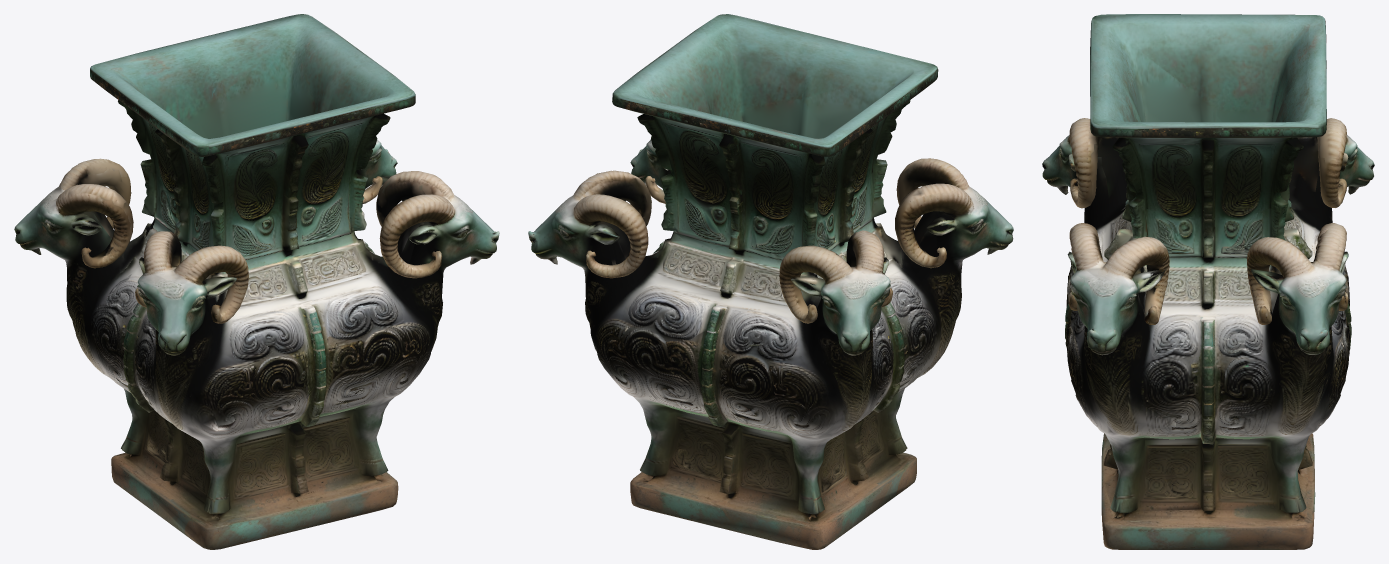
Rendered from si-yang-fang-zun.glb.
3 views of the same model, side by side, from view 1: azimuth 30°, elevation 25°; view 2: azimuth 150°, elevation 25°; view 3: azimuth 270°, elevation 25° (orthographic). The views are drawn at different scales.
Visible parts, largest first — view 1: convert; view 2: convert; view 3: convert.
Boxes of the visible parts, x1,y1,x2,y2 form: convert: [14, 14, 499, 549]; convert: [528, 14, 1013, 549]; convert: [1042, 14, 1374, 549].
Size of the model in its own units: 0.8552 by 0.9469 by 0.6627.
Materials: 1 (1 with a texture image).
